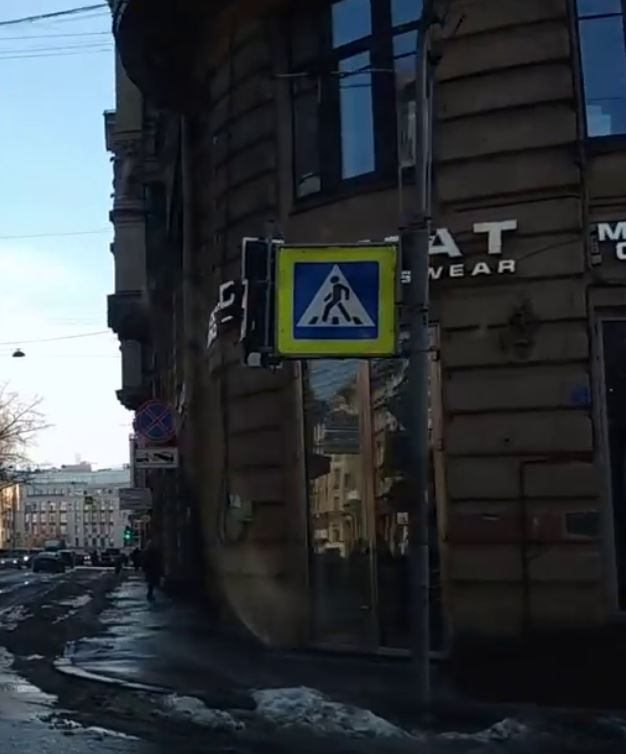Yaya Gecidi: (293, 260, 394, 342)
